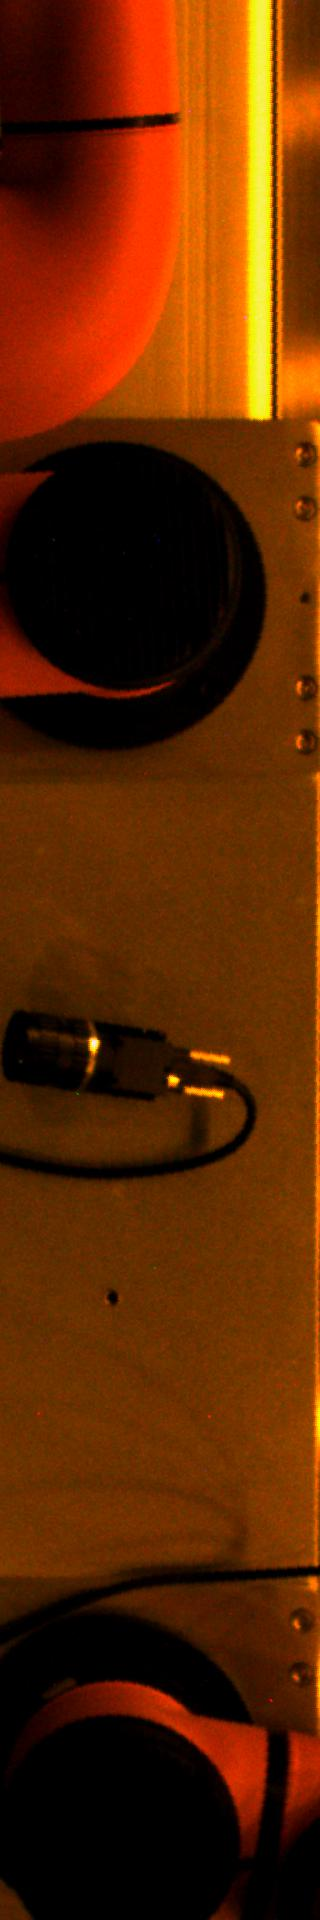keyPoint_2: (97, 1282, 128, 1311)
